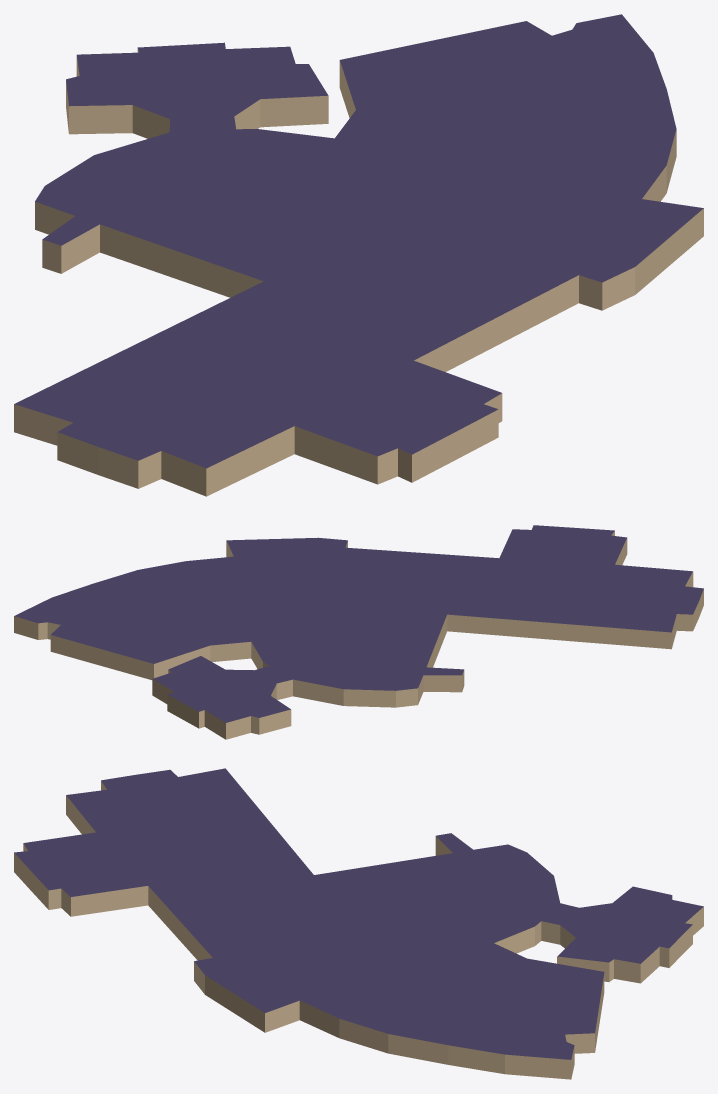
The model's file is b-094-robarts-research-institute.glb.
3 views of the same model, one above another, from view 1: azimuth 30°, elevation 25°; view 2: azimuth 150°, elevation 25°; view 3: azimuth 270°, elevation 25° (orthographic). The views are drawn at different scales.
Parts seen in each view (by area): view 1: campus/b-094-robarts-research-institute-0; view 2: campus/b-094-robarts-research-institute-0; view 3: campus/b-094-robarts-research-institute-0.
Boxes of the visible parts, x1,y1,x2,y2 form: campus/b-094-robarts-research-institute-0: (14,14,703,496); campus/b-094-robarts-research-institute-0: (14,525,703,739); campus/b-094-robarts-research-institute-0: (14,768,703,1079).
Size of the model in its own units: 95.42 by 3 by 95.41.
